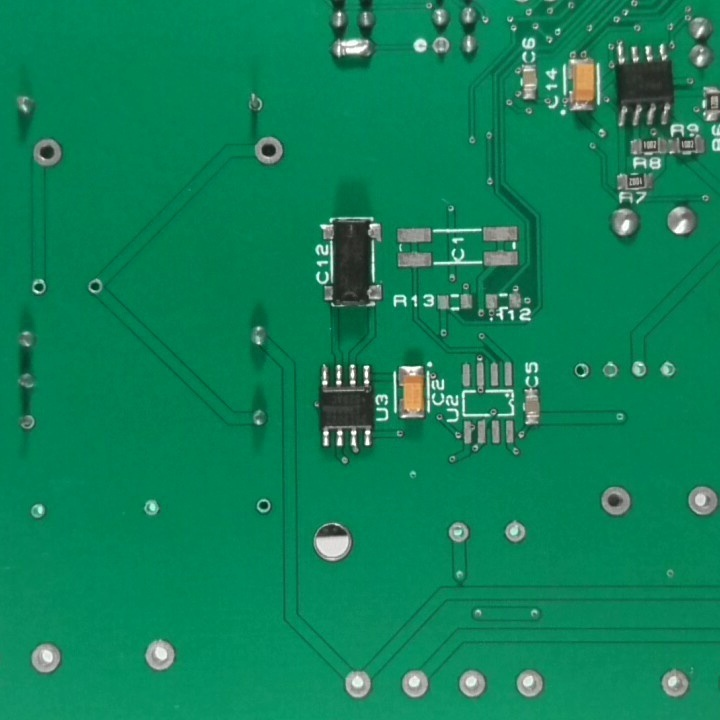F: (593, 481, 635, 524), (681, 477, 720, 523), (23, 638, 66, 676), (656, 659, 693, 700), (141, 636, 177, 678), (248, 134, 287, 171), (337, 667, 376, 703), (28, 136, 66, 170), (399, 666, 433, 703), (453, 665, 487, 700), (512, 663, 544, 700), (499, 520, 530, 548), (240, 92, 267, 121), (27, 495, 52, 525), (444, 519, 470, 546), (139, 493, 164, 521), (627, 355, 652, 382), (598, 357, 622, 384), (83, 272, 107, 297), (427, 34, 453, 56), (570, 360, 595, 382), (13, 411, 37, 433), (29, 274, 49, 300), (251, 498, 276, 518), (659, 361, 678, 383)
P: (327, 35, 382, 65)
